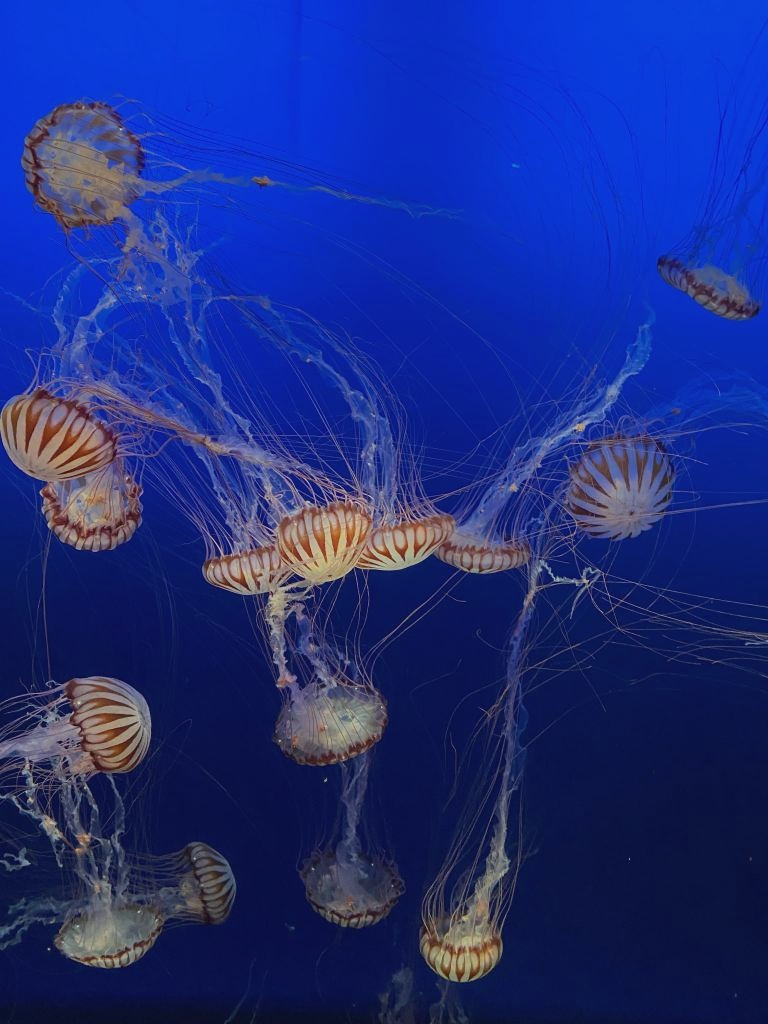jellyfish: (26, 100, 146, 226), (54, 662, 162, 782), (266, 674, 390, 764), (564, 438, 670, 542), (6, 383, 116, 477), (650, 250, 764, 332), (37, 464, 143, 548), (302, 850, 406, 924), (56, 904, 166, 972), (276, 503, 366, 585), (344, 510, 452, 574), (172, 834, 238, 924), (419, 916, 502, 986), (192, 542, 294, 594), (437, 530, 526, 576)
